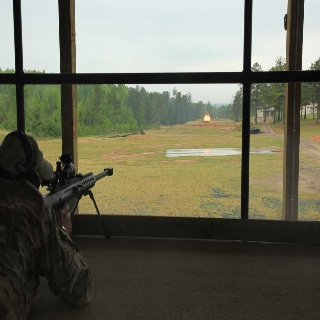rifle: (38, 154, 116, 240)
